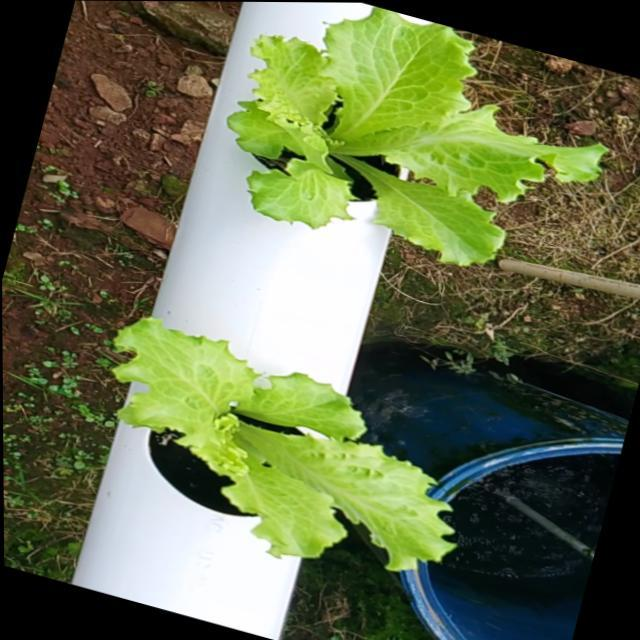Baby: (224, 6, 603, 265), (109, 319, 451, 572)
